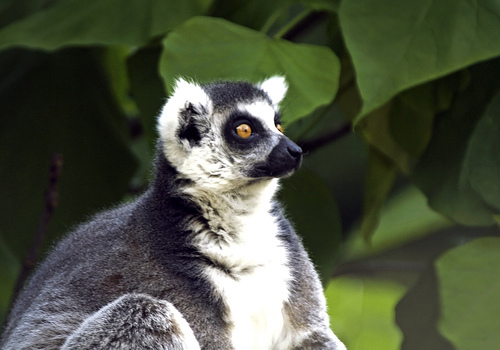cat: (0, 66, 348, 348)
